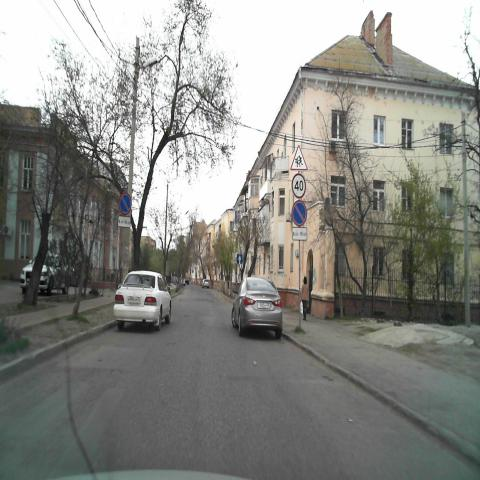3_28: (292, 200, 306, 226), (118, 193, 132, 215)
8_5_4: (291, 227, 307, 239), (118, 216, 131, 228)
